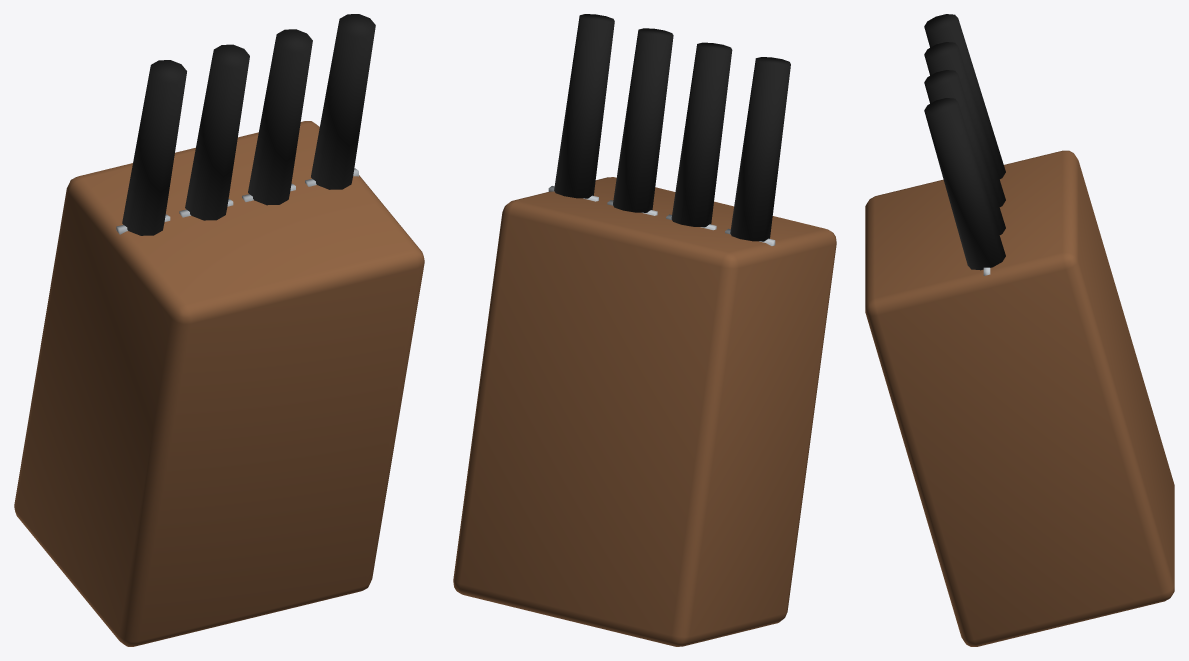
The model's file is props-knifeblock.glb.
3 views of the same model, side by side, from view 1: azimuth 30°, elevation 25°; view 2: azimuth 150°, elevation 25°; view 3: azimuth 270°, elevation 25° (orthographic). The views are drawn at different scales.
Parts seen in each view (by area): view 1: KnifeBlock__Block, KnifeBlock__Handles; view 2: KnifeBlock__Block, KnifeBlock__Handles; view 3: KnifeBlock__Block, KnifeBlock__Handles.
Boxes of the visible parts, left/top/right/bottom form: KnifeBlock__Block: left=14, top=121, right=424, bottom=646; KnifeBlock__Handles: left=122, top=14, right=375, bottom=235; KnifeBlock__Block: left=453, top=177, right=836, bottom=646; KnifeBlock__Handles: left=554, top=14, right=790, bottom=241; KnifeBlock__Block: left=865, top=150, right=1174, bottom=646; KnifeBlock__Handles: left=924, top=14, right=1005, bottom=270.
Bounding box in the file's own units: 12 × 26.77 × 14.01.
